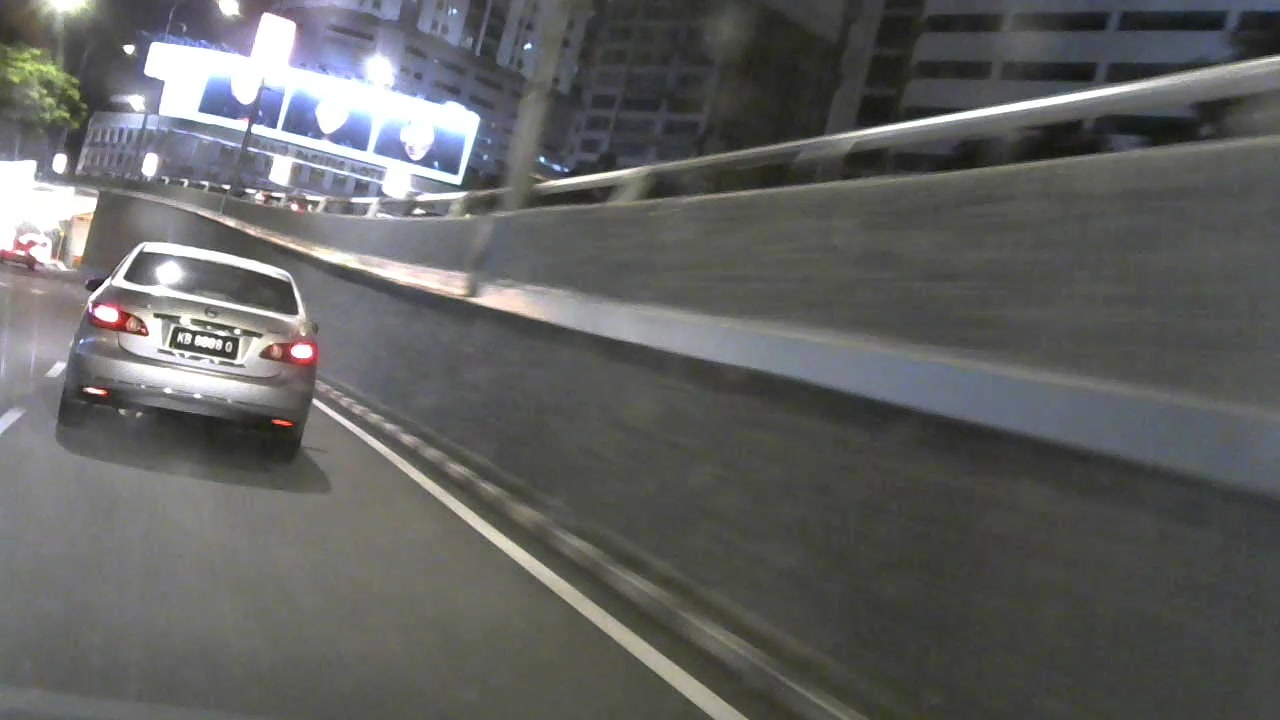Car: (66, 232, 316, 469), (1, 228, 44, 280)
